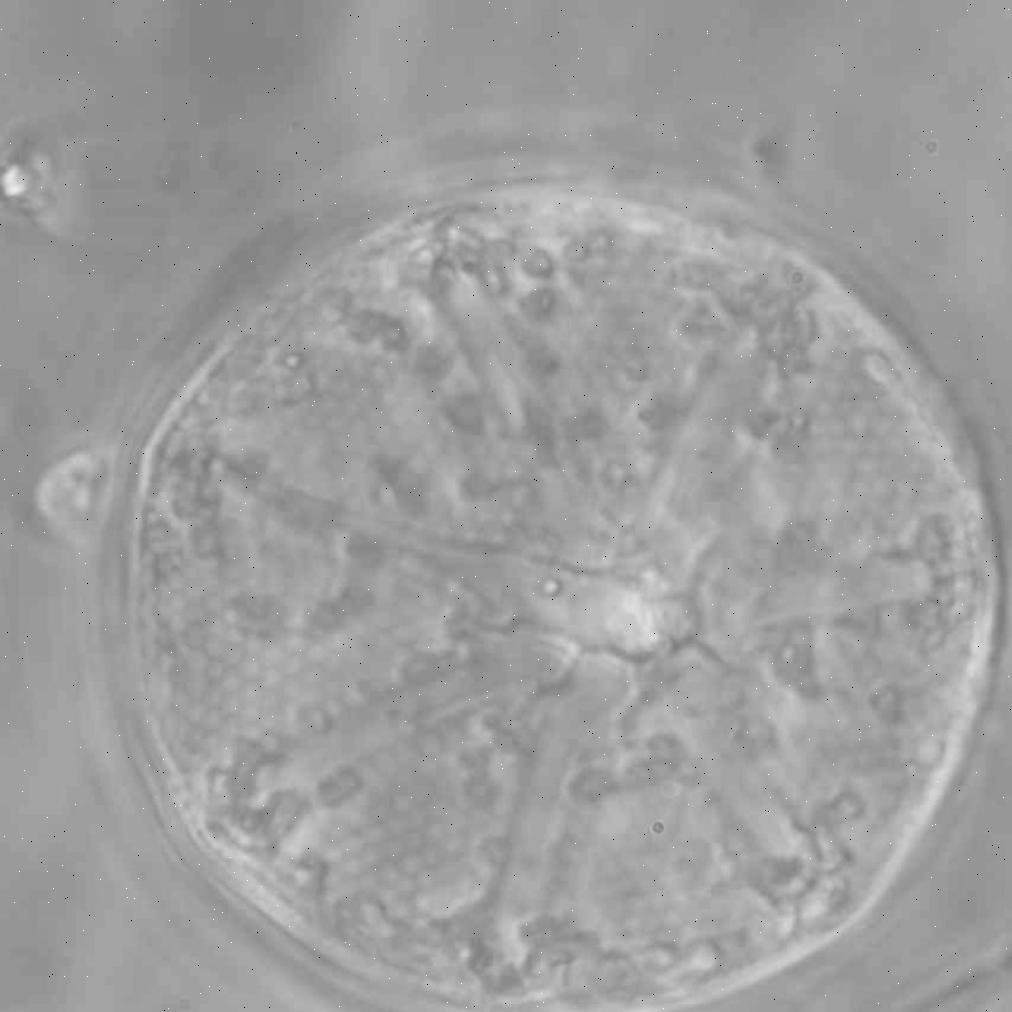asteromphalus_hyalinus: (118, 197, 985, 1012)
